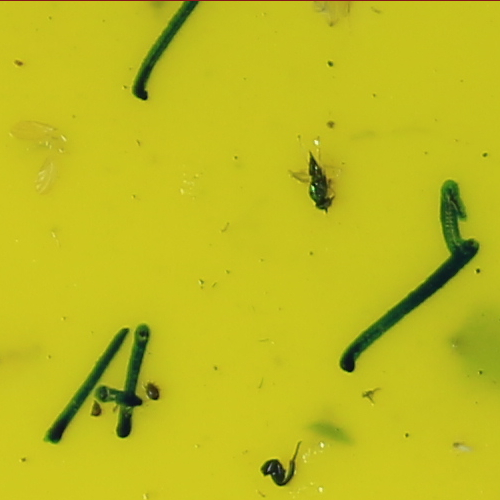wasp: (298, 150, 338, 215)
